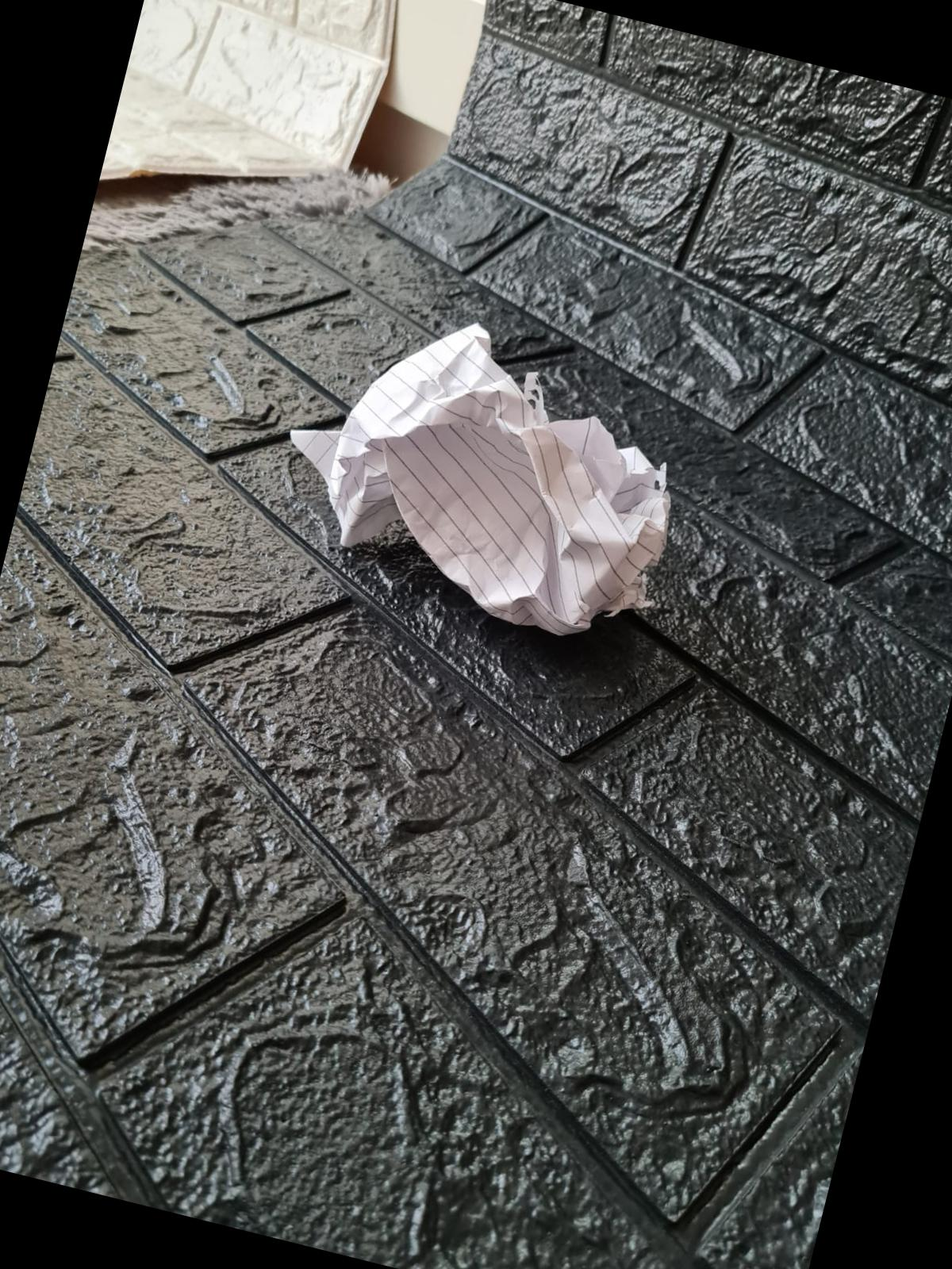Kertas: (311, 326, 683, 638)
